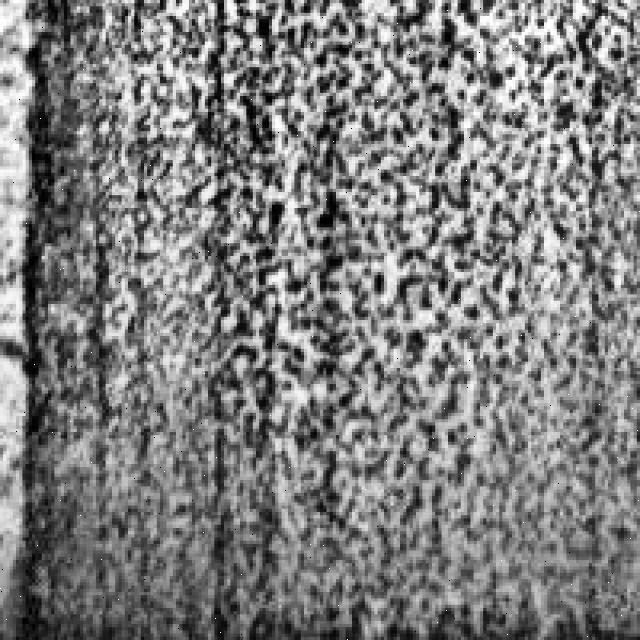Rolled_in_Scale: (22, 0, 637, 624)
